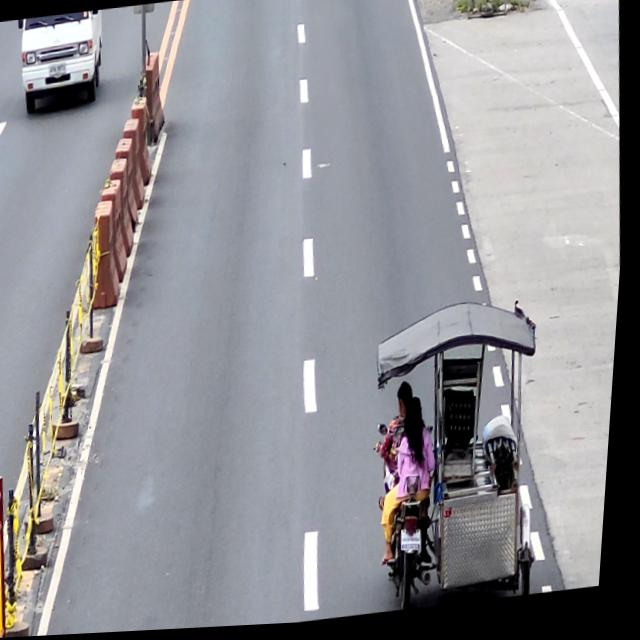Tricycle: (367, 327, 557, 617)
